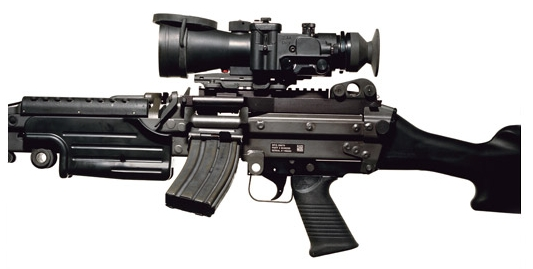rifle: (9, 19, 529, 266)
